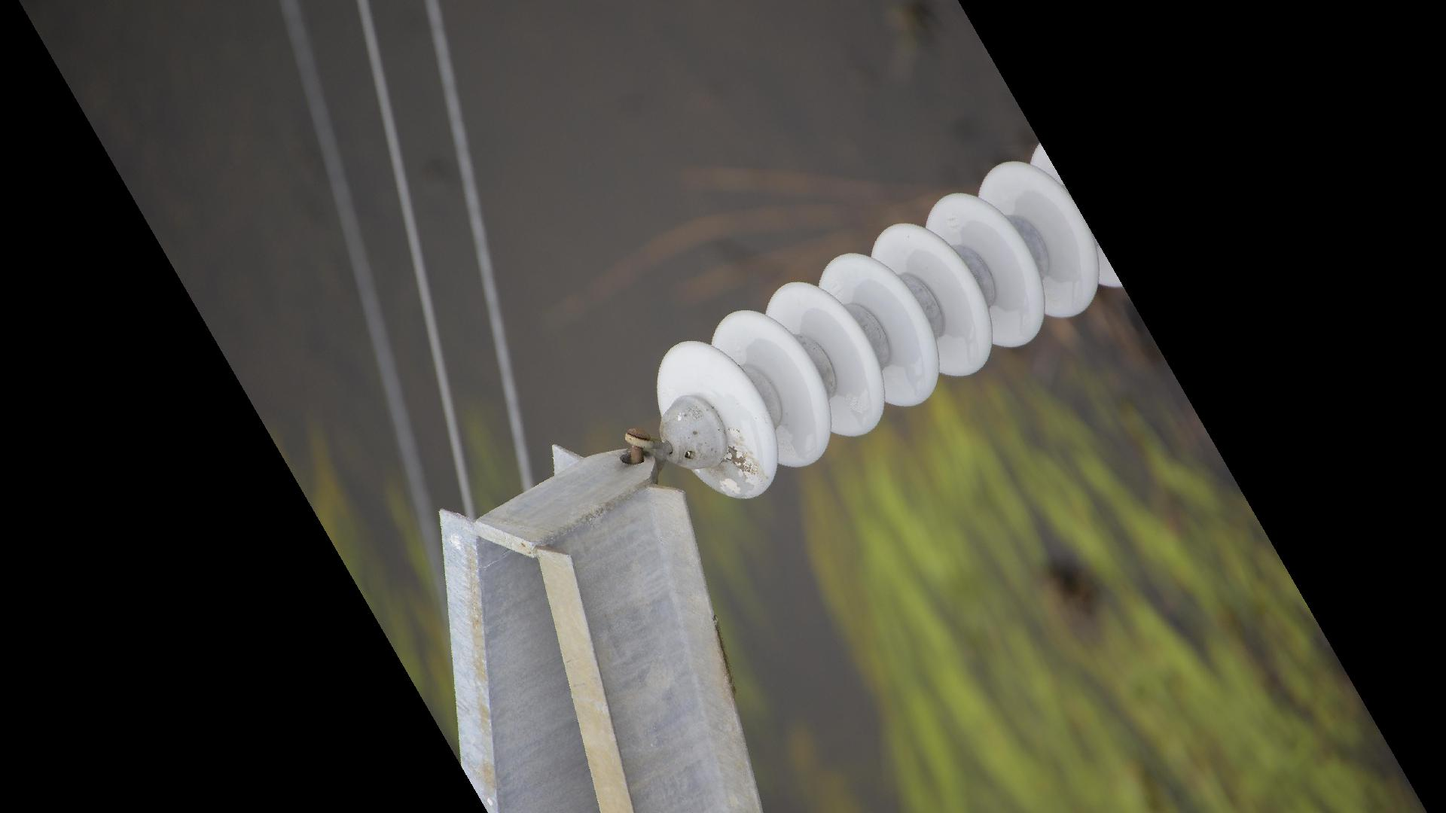insulator: (647, 132, 1130, 505)
insulator_flashover: (694, 445, 773, 502)
